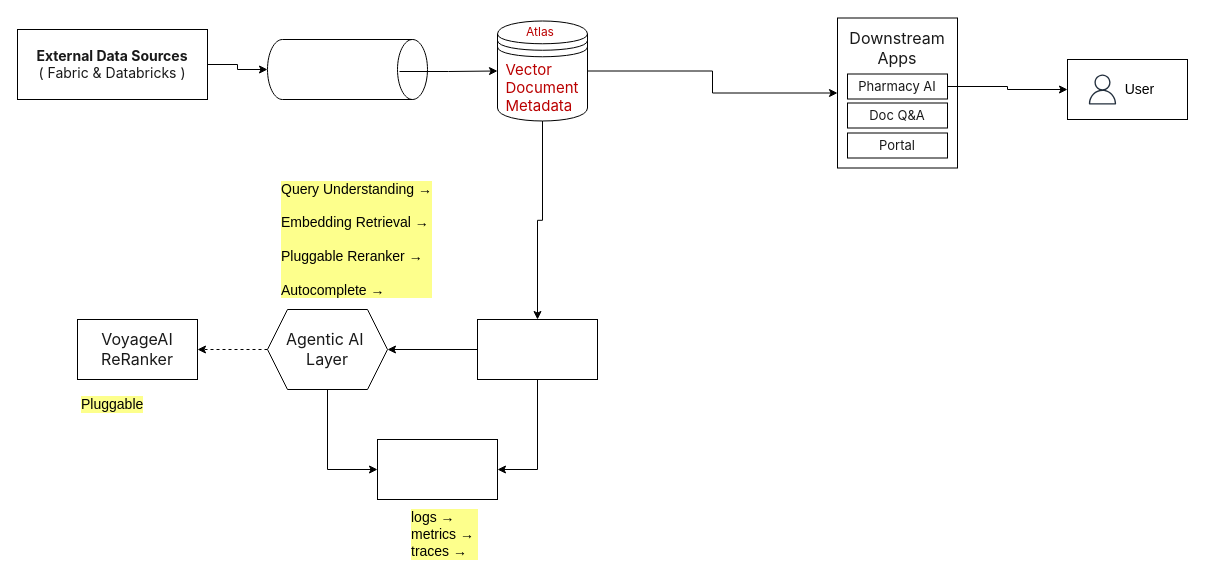
This 1205x576 diagram has some shape labels left out. The centre of each missing label's shape, as x and y in pixels:
Datadog: point (437, 469)
Python Search API: point (537, 349)
Scheduled ETL Pipelines: point (347, 69)
